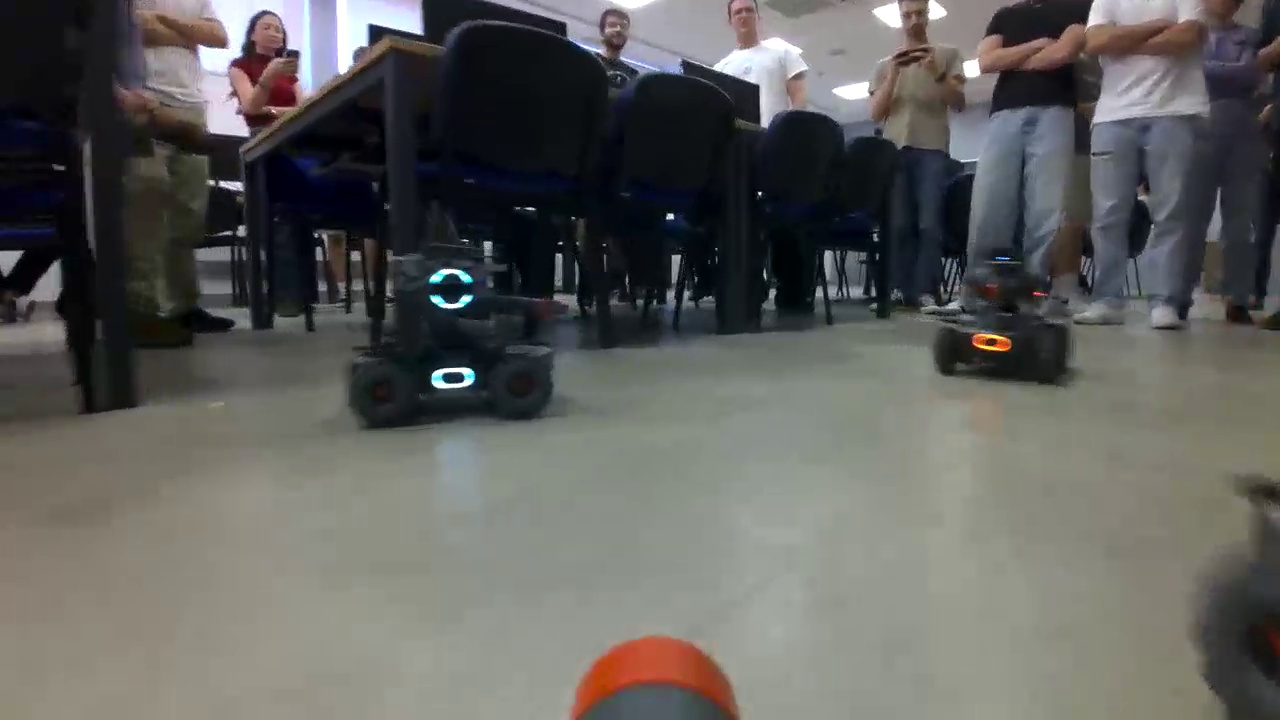robot: (348, 247, 553, 428), (1188, 470, 1280, 690), (930, 250, 1069, 385)
